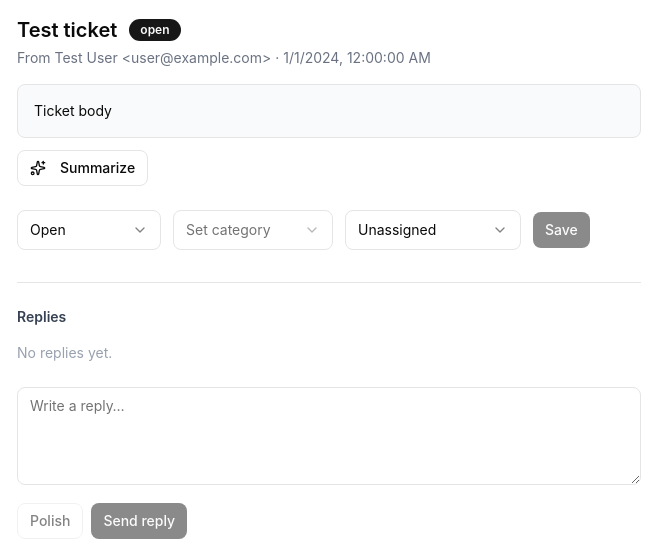
Test: TicketDetailPage — reply form › shows "Sending…" and disables the button while the POST is in flight
This screenshot has width=659, height=556.
Expected: the heading "Test ticket" is shown, [17, 16, 117, 44]
Type "My reply" into the text box with placeholder "Write a reply…" at (329, 436), box [17, 387, 641, 485]
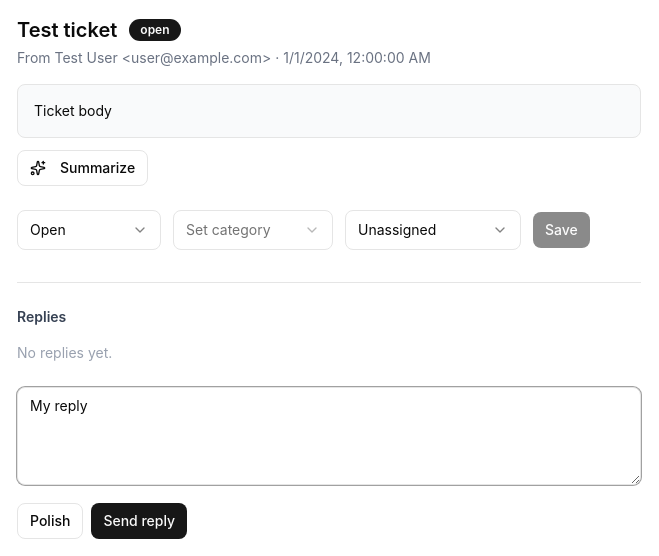
Click the button "Send reply" at (139, 521), box [91, 503, 187, 539]
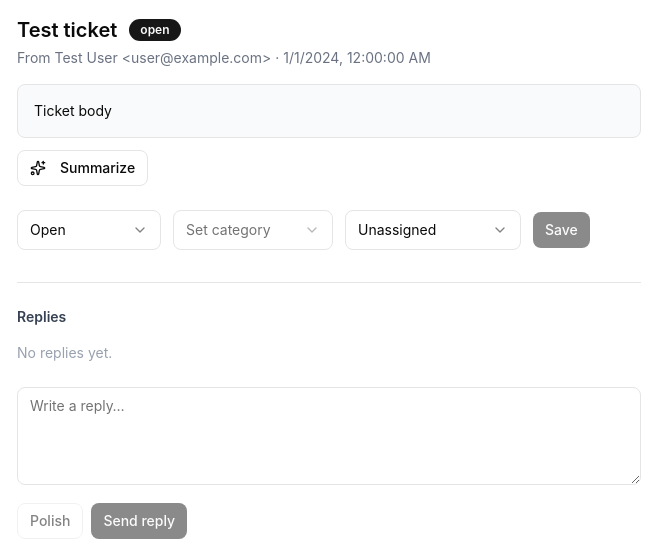
Result: the button named "Sending…" is disabled at [91, 503, 187, 539]
